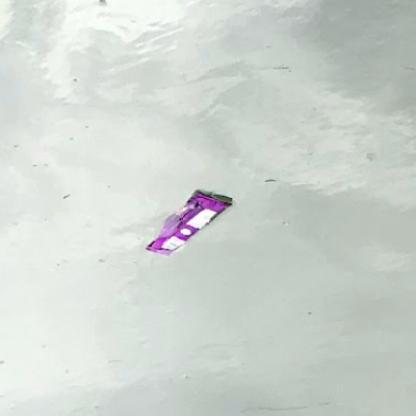Trash: (144, 188, 233, 261)
